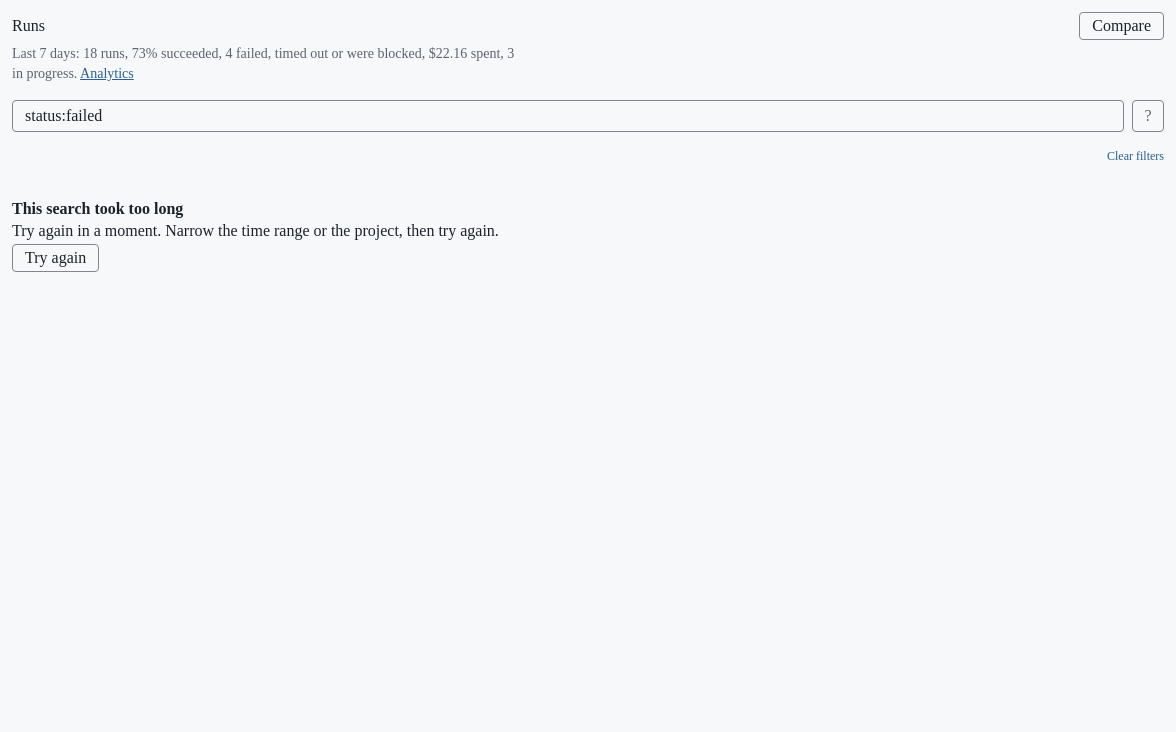
it: search page › SEARCH_TIMEOUT shows a retry that runs the search again
The image size is (1176, 732).
Check: the message shows "This search took too long", box [12,200,183,217]
Click the button "Try again": (56,258) [12,244,99,272]
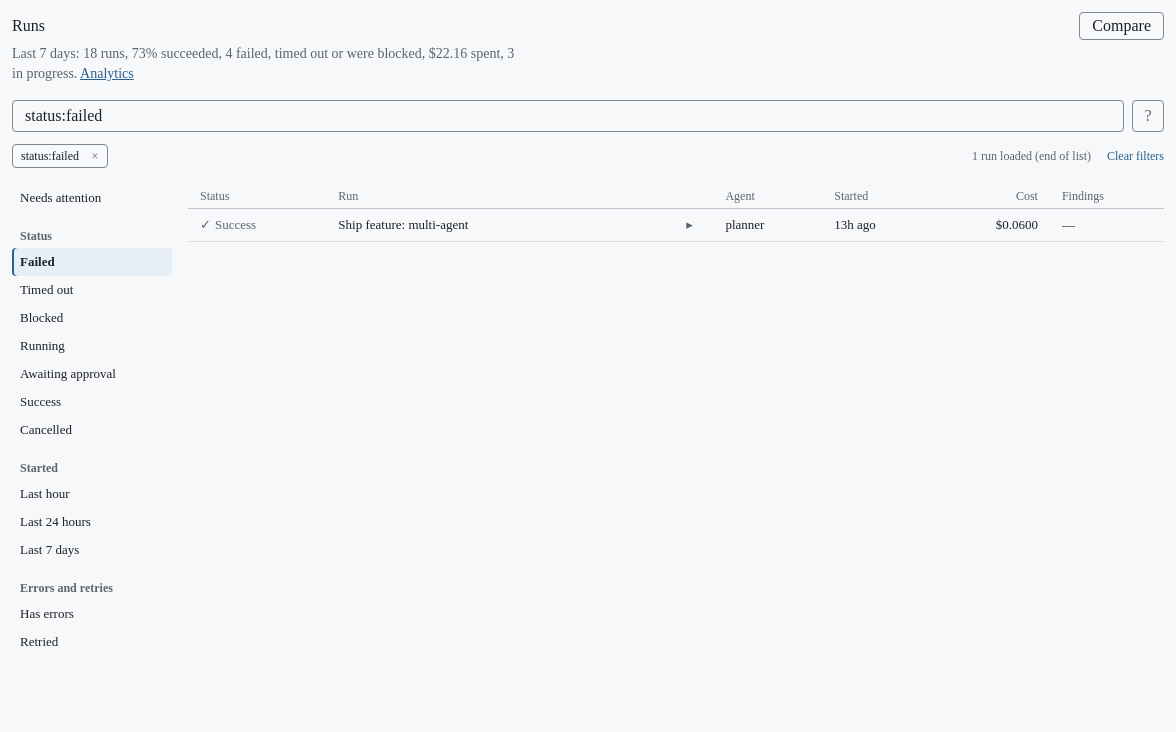
Check: the message is gone
